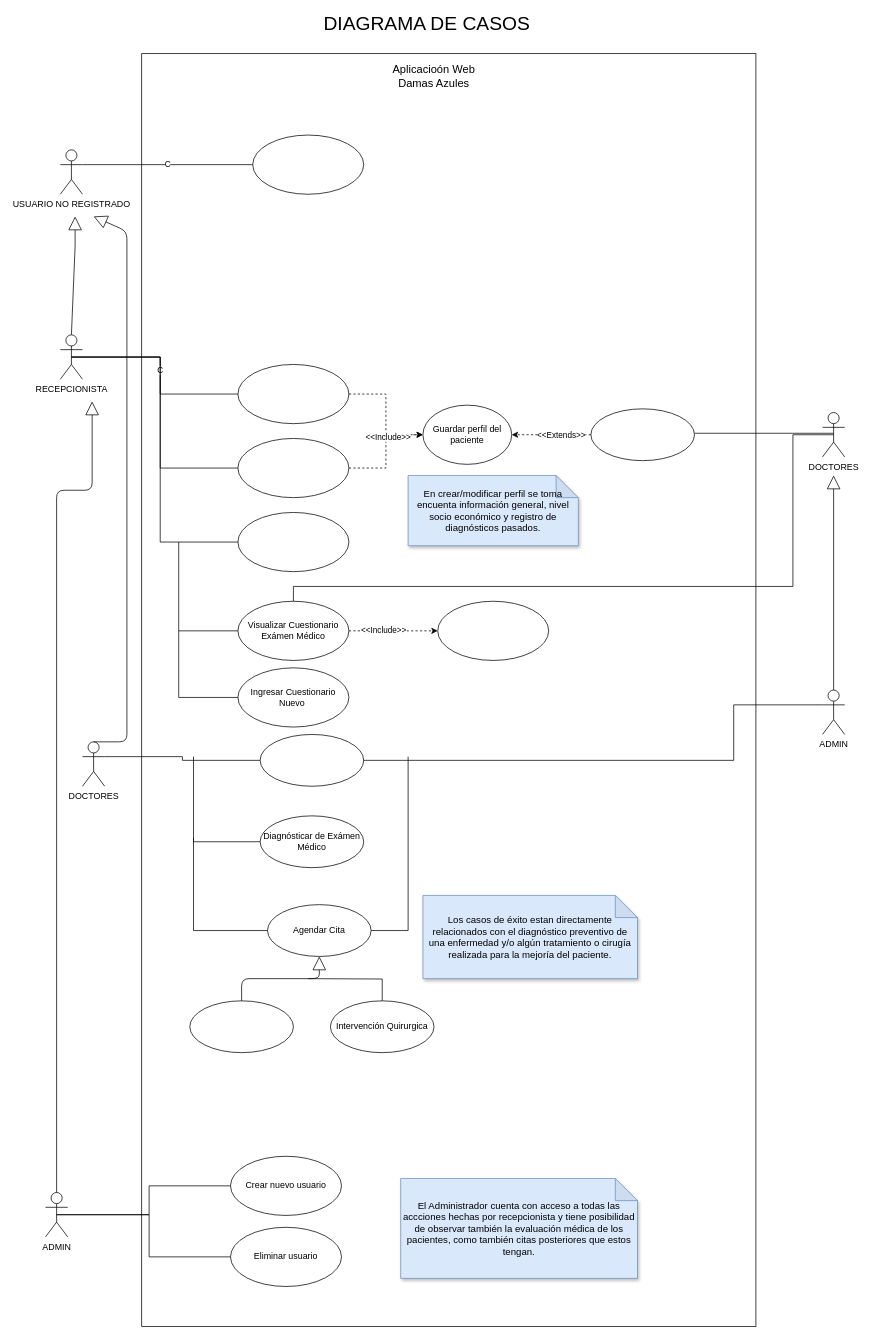
Some shapes in this 872 by 1339 pixel diagram are drawn without their labels. The centre of each missing label's shape, as x and y in pixels:
"Actualizar de cuestionario" goes at point (493, 630).
"Chequeo Preventivo" goes at point (241, 1026).
"Crear perfil del paciente" goes at point (293, 394).
"Eliminar perfil del paciente" goes at point (293, 542).
"Ingresar con su cuenta (Iniciar sesión)" goes at point (308, 164).
"Modificar perfil del paciente" goes at point (293, 468).
"Visualizar datos generales del paciente" goes at point (642, 434).
"Visualizar Examen Médico" goes at point (311, 760).
